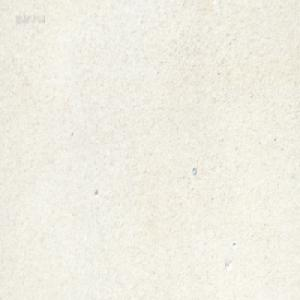Washer: (191, 165, 196, 175)
